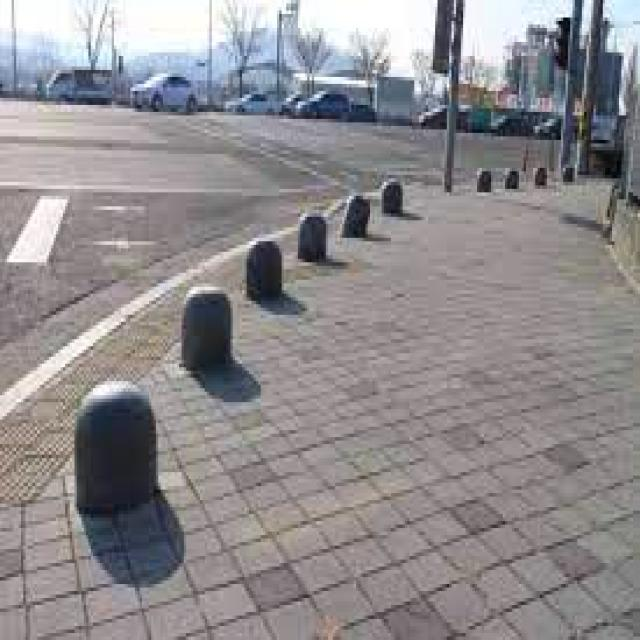bollard: (65, 358, 155, 516), (174, 278, 233, 374), (243, 231, 283, 302), (291, 210, 327, 272), (337, 189, 372, 245), (375, 173, 405, 221), (470, 161, 494, 199), (502, 166, 522, 200), (557, 164, 578, 193), (534, 166, 550, 191)
